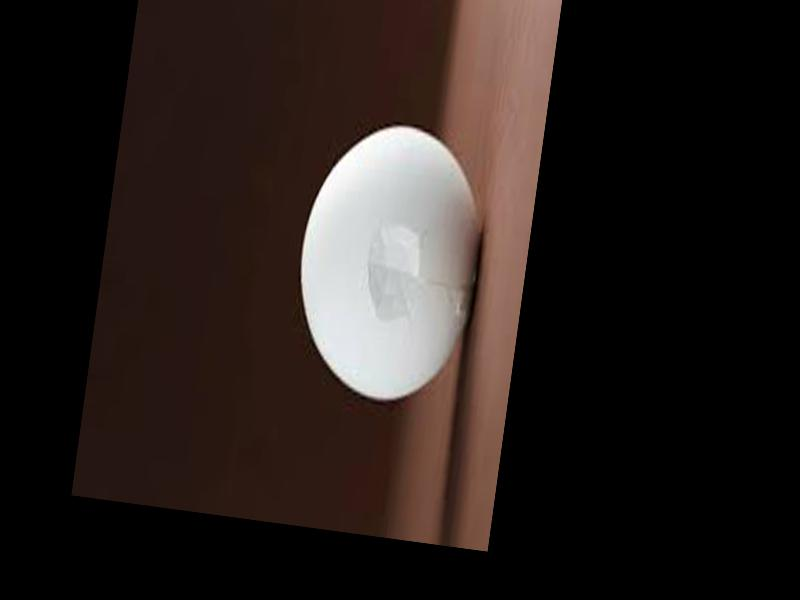Eggs: (284, 115, 495, 406)
